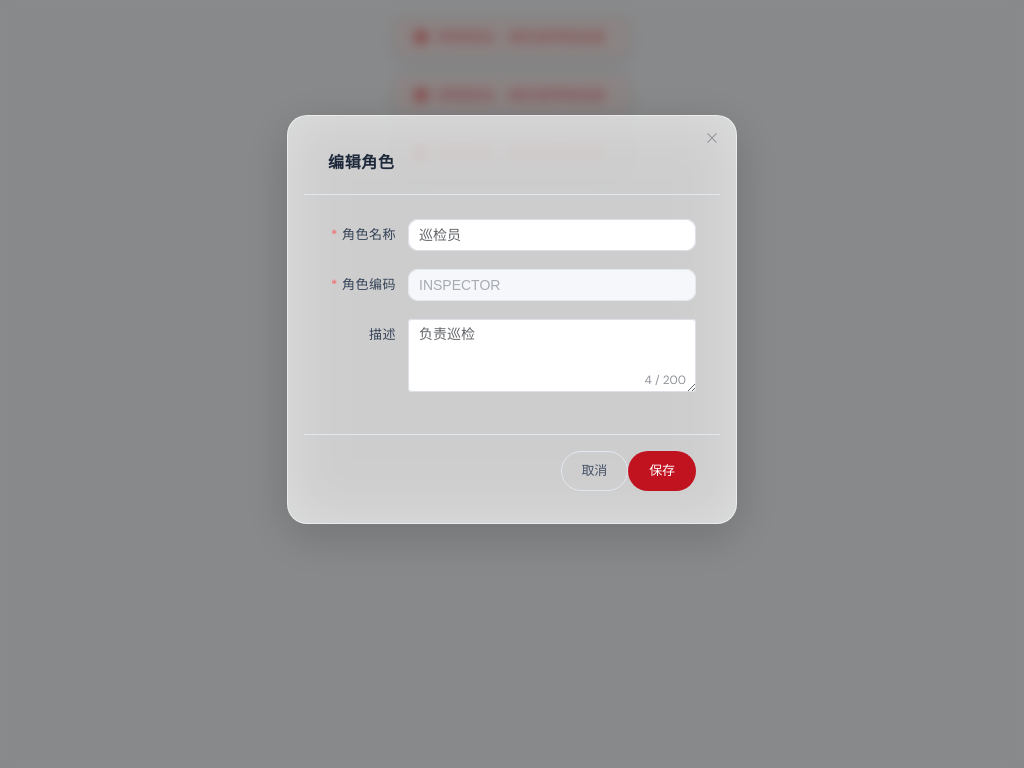
Test: RoleFormDialog 编辑模式（role prop） › 关闭后重开：回到 role 的回填值（不留半截修改）
This screenshot has width=1024, height=768.
Step 1. Replace the text in the field with id "roleName" with "被改了一半" → coordinates (552, 235), box [419,220,685,250]
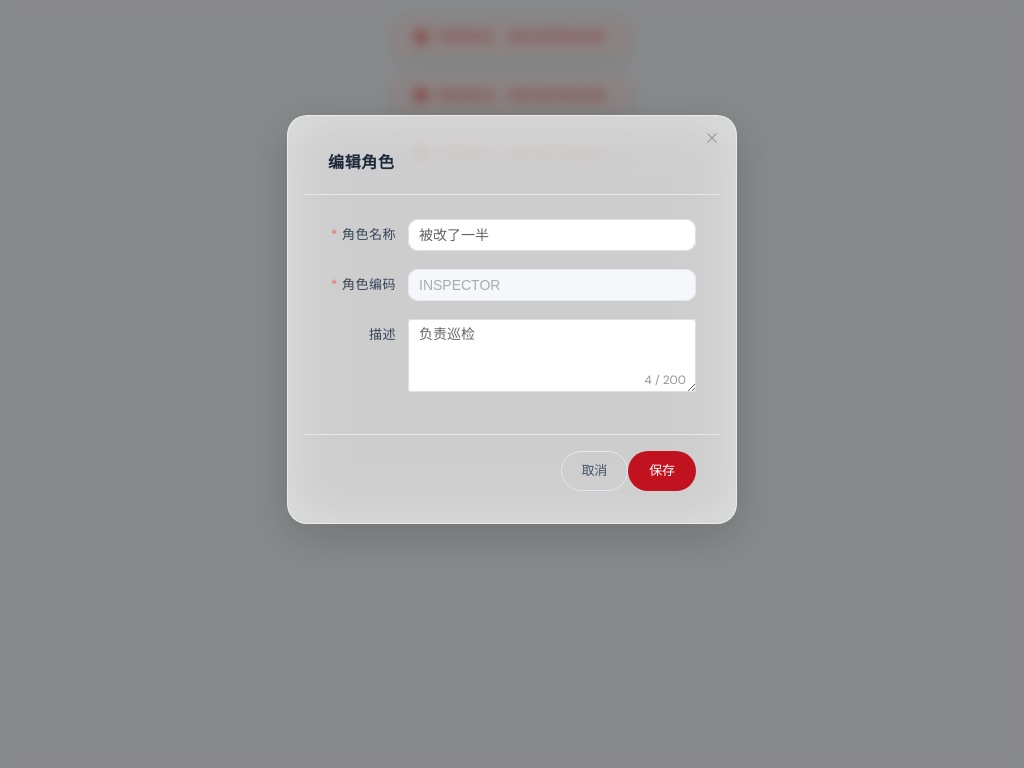
Step 2. Click the button named "Close this dialog" → coordinates (712, 140), box [688,116,736,164]
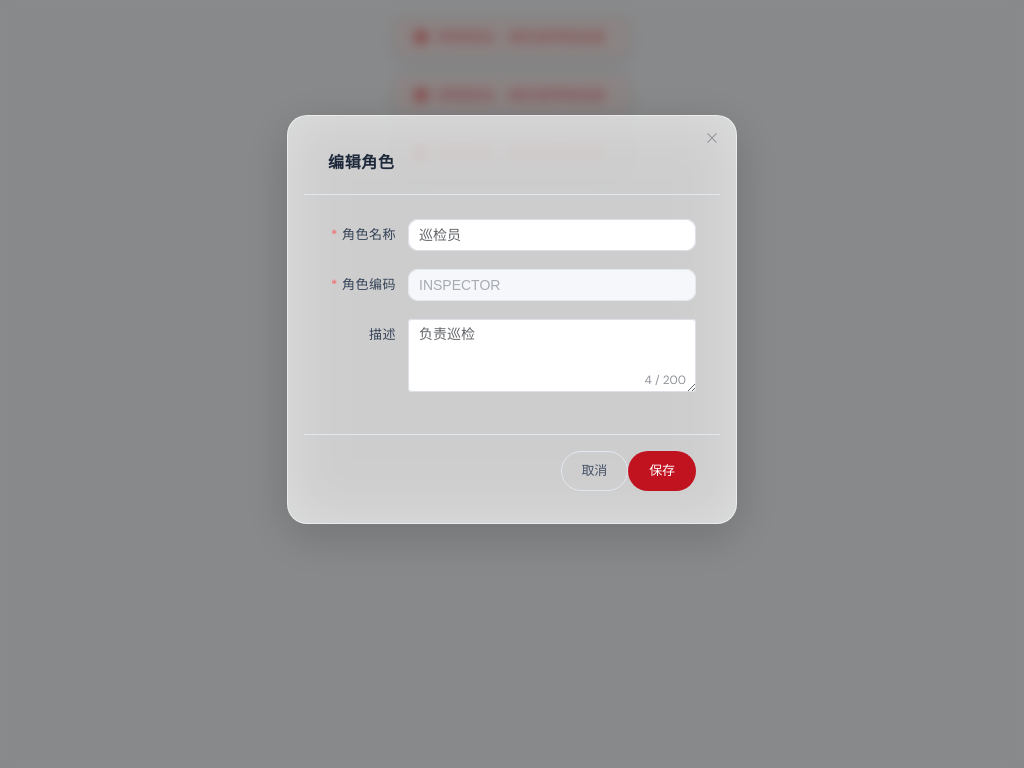
Expected: the field with id "roleName" holds "巡检员", [419,220,685,250]
